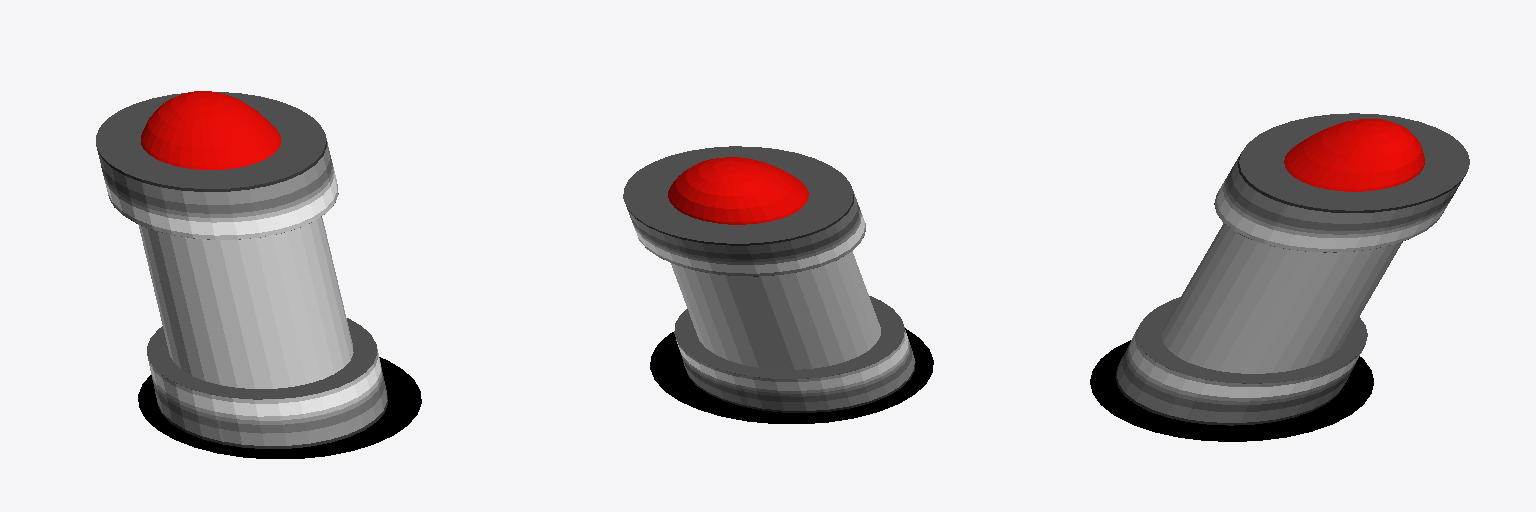
3 views of the same model, side by side, from view 1: azimuth 30°, elevation 25°; view 2: azimuth 150°, elevation 25°; view 3: azimuth 270°, elevation 25° (orthographic).
Parts seen in each view (by area): view 1: glass_Cylinder.002, base.001_Cylinder.003, base_Cylinder.001, TopBall_Sphere, shadow_Sphere; view 2: base.001_Cylinder.003, glass_Cylinder.002, base_Cylinder.001, TopBall_Sphere, shadow_Sphere; view 3: glass_Cylinder.002, base.001_Cylinder.003, base_Cylinder.001, TopBall_Sphere, shadow_Sphere.
Part boxes in pixels (bbox=[...]): glass_Cylinder.002: bbox=[138, 217, 353, 388]; base.001_Cylinder.003: bbox=[96, 92, 338, 239]; base_Cylinder.001: bbox=[147, 318, 387, 448]; TopBall_Sphere: bbox=[141, 91, 280, 169]; shadow_Sphere: bbox=[138, 357, 421, 458]; base.001_Cylinder.003: bbox=[623, 146, 865, 276]; glass_Cylinder.002: bbox=[671, 251, 880, 369]; base_Cylinder.001: bbox=[674, 296, 915, 412]; TopBall_Sphere: bbox=[668, 157, 808, 224]; shadow_Sphere: bbox=[650, 328, 933, 423]; glass_Cylinder.002: bbox=[1161, 223, 1402, 373]; base.001_Cylinder.003: bbox=[1214, 113, 1469, 252]; base_Cylinder.001: bbox=[1115, 297, 1367, 425]; TopBall_Sphere: bbox=[1284, 119, 1424, 191]; shadow_Sphere: bbox=[1090, 340, 1373, 441].
Bounding box in the file's own units: 3.08 × 3.01 × 4.11.
5 materials, 2 textured.